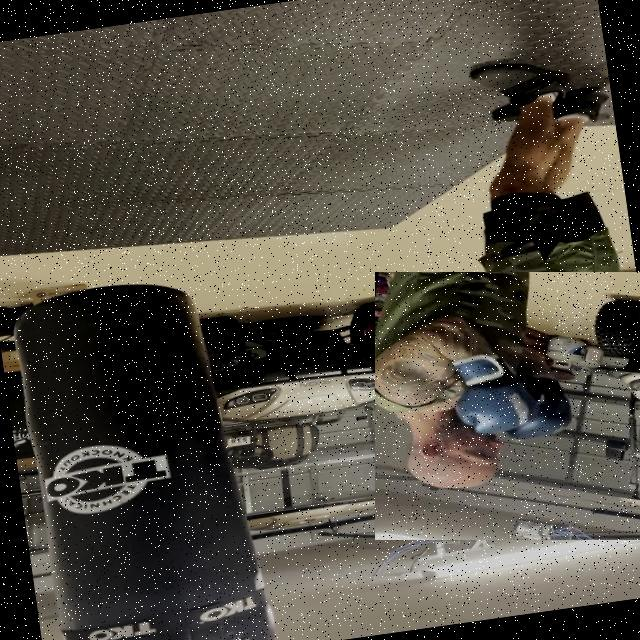punch: (375, 272, 640, 540)
